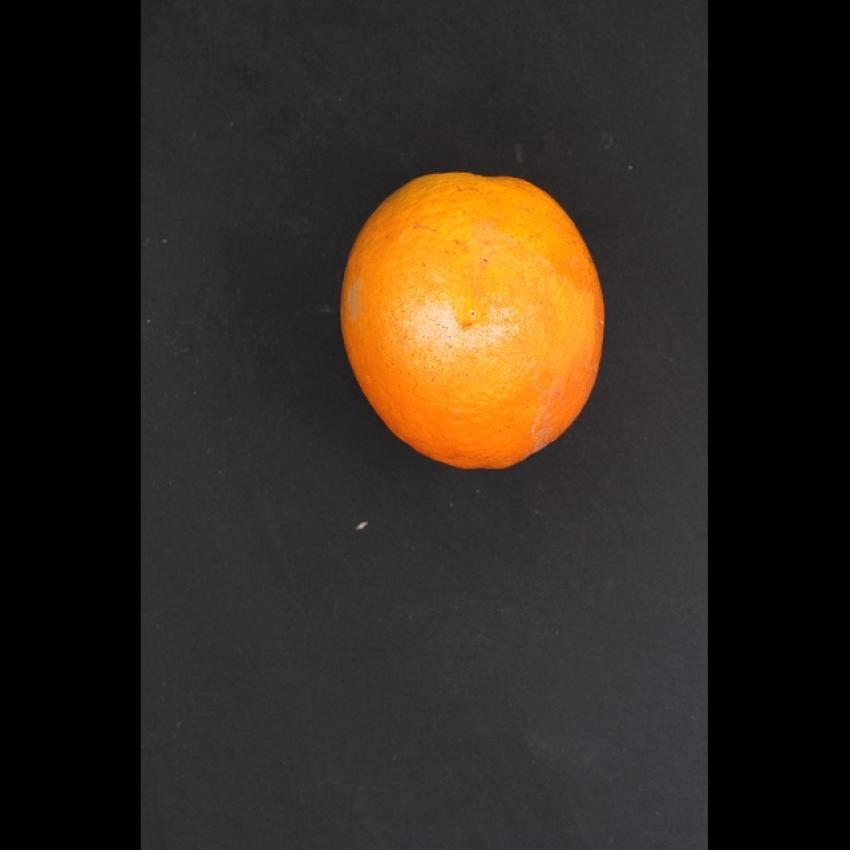Mal estado: (331, 154, 616, 485)
